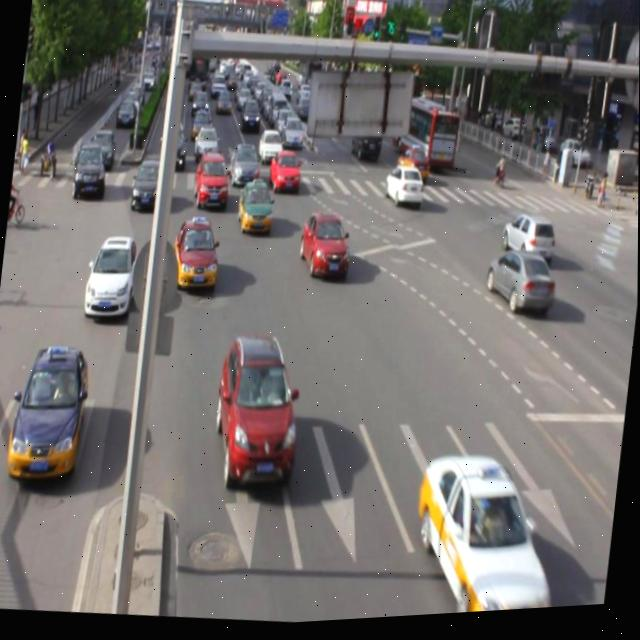car: (406, 451, 565, 621), (207, 331, 308, 497), (6, 338, 94, 484), (481, 249, 557, 325), (82, 231, 141, 320), (297, 213, 354, 287), (170, 217, 223, 295), (497, 215, 557, 274), (192, 152, 232, 215), (236, 181, 277, 239), (129, 157, 167, 215)
